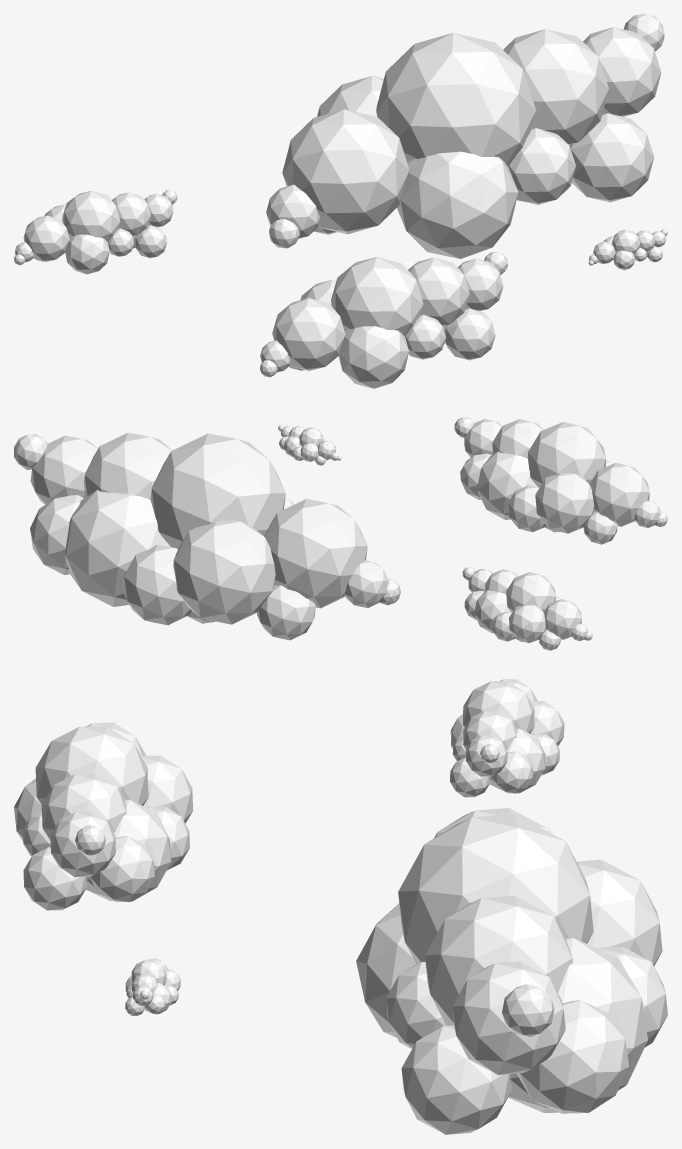
The model's file is nuvens.fbx.
The picture shows the model from 3 angles, top to bottom: view 1: azimuth 30°, elevation 25°; view 2: azimuth 150°, elevation 25°; view 3: azimuth 270°, elevation 25°; orthographic projection. The views are drawn at different scales.
Visible parts, largest first — view 1: Esfera icosaédrica.035, Esfera icosaédrica.037, Esfera icosaédrica.049, Esfera icosaédrica.046, Esfera icosaédrica.047, Esfera icosaédrica.034, Esfera icosaédrica.051, Esfera icosaédrica.032, Esfera icosaédrica.048, Esfera icosaédrica.020, Esfera icosaédrica.023, Esfera icosaédrica.001 (+14 smaller); view 2: Esfera icosaédrica.035, Esfera icosaédrica.036, Esfera icosaédrica.037, Esfera icosaédrica.039, Esfera icosaédrica.046, Esfera icosaédrica.040, Esfera icosaédrica.034, Esfera icosaédrica.051, Esfera icosaédrica.033, Esfera icosaédrica.032, Esfera icosaédrica.041, Esfera icosaédrica.030 (+17 smaller); view 3: Esfera icosaédrica.035, Esfera icosaédrica.046, Esfera icosaédrica.051, Esfera icosaédrica.041, Esfera icosaédrica.047, Esfera icosaédrica.039, Esfera icosaédrica.034, Esfera icosaédrica.036, Esfera icosaédrica.049, Esfera icosaédrica.023, Esfera icosaédrica.048, Esfera icosaédrica.028 (+17 smaller).
Part boxes in pixels (box(x1,y1,x2,y2)): Esfera icosaédrica.035: box(376, 32, 535, 166); Esfera icosaédrica.037: box(282, 109, 408, 234); Esfera icosaédrica.049: box(397, 151, 518, 258); Esfera icosaédrica.046: box(503, 29, 608, 144); Esfera icosaédrica.047: box(569, 113, 653, 202); Esfera icosaédrica.034: box(331, 257, 423, 336); Esfera icosaédrica.051: box(583, 27, 661, 116); Esfera icosaédrica.032: box(272, 298, 345, 370); Esfera icosaédrica.048: box(508, 128, 575, 204); Esfera icosaédrica.020: box(338, 326, 408, 388); Esfera icosaédrica.023: box(408, 257, 469, 325); Esfera icosaédrica.001: box(62, 190, 120, 241); Esfera icosaédrica.035: box(150, 433, 285, 548); Esfera icosaédrica.036: box(173, 519, 275, 624); Esfera icosaédrica.037: box(264, 499, 367, 608); Esfera icosaédrica.039: box(64, 490, 170, 606); Esfera icosaédrica.046: box(84, 432, 172, 499); Esfera icosaédrica.040: box(122, 544, 191, 625); Esfera icosaédrica.034: box(527, 422, 605, 487); Esfera icosaédrica.051: box(30, 435, 97, 504); Esfera icosaédrica.033: box(535, 472, 593, 533); Esfera icosaédrica.032: box(589, 462, 649, 526); Esfera icosaédrica.041: box(30, 495, 83, 574); Esfera icosaédrica.030: box(477, 451, 537, 519); Esfera icosaédrica.035: box(398, 814, 593, 964); Esfera icosaédrica.046: box(425, 895, 572, 1025); Esfera icosaédrica.051: box(452, 961, 565, 1074); Esfera icosaédrica.041: box(517, 1000, 629, 1113); Esfera icosaédrica.047: box(401, 1025, 511, 1134); Esfera icosaédrica.039: box(508, 938, 647, 1112); Esfera icosaédrica.034: box(35, 726, 148, 805); Esfera icosaédrica.036: box(577, 859, 662, 966); Esfera icosaédrica.049: box(356, 903, 416, 1037); Esfera icosaédrica.023: box(41, 773, 126, 841); Esfera icosaédrica.048: box(386, 962, 446, 1048); Esfera icosaédrica.028: box(90, 836, 154, 902).
Bounding box in the file's own units: 3638 × 989 × 2529.
68 materials, 68 textured.
